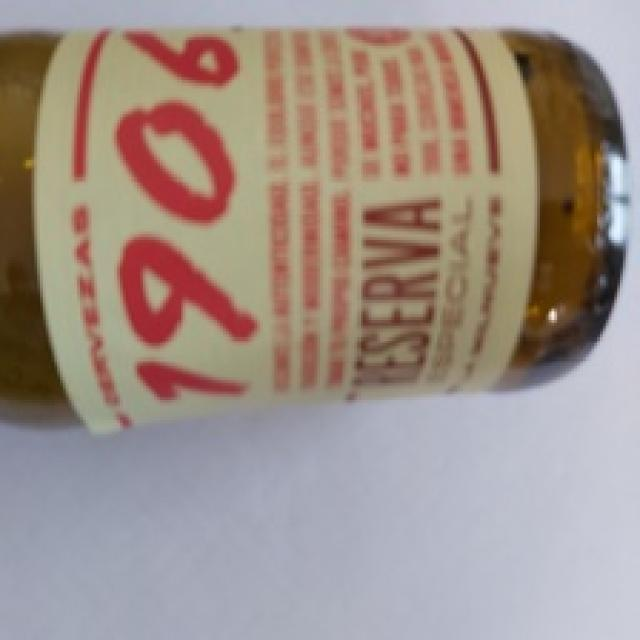Glass: (0, 23, 632, 426)
